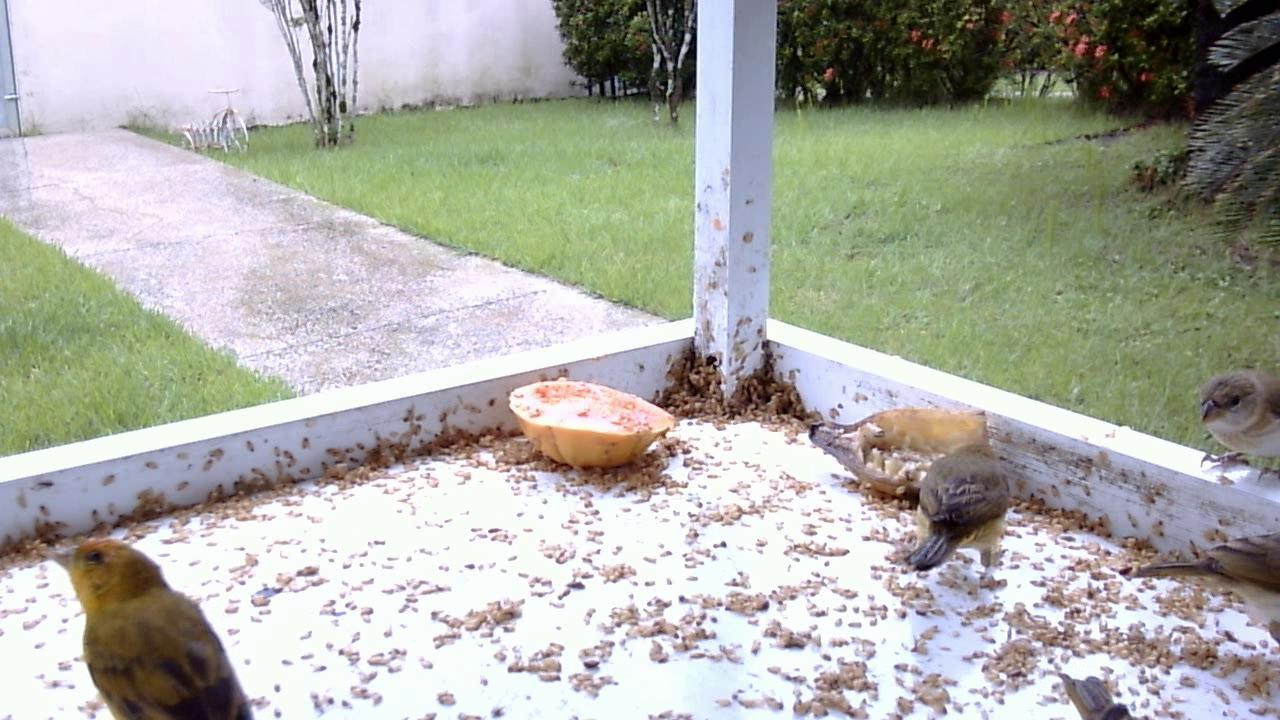canario_do_amazonas: (50, 532, 261, 716), (1127, 523, 1278, 674), (892, 441, 1027, 584), (1190, 360, 1280, 499)
